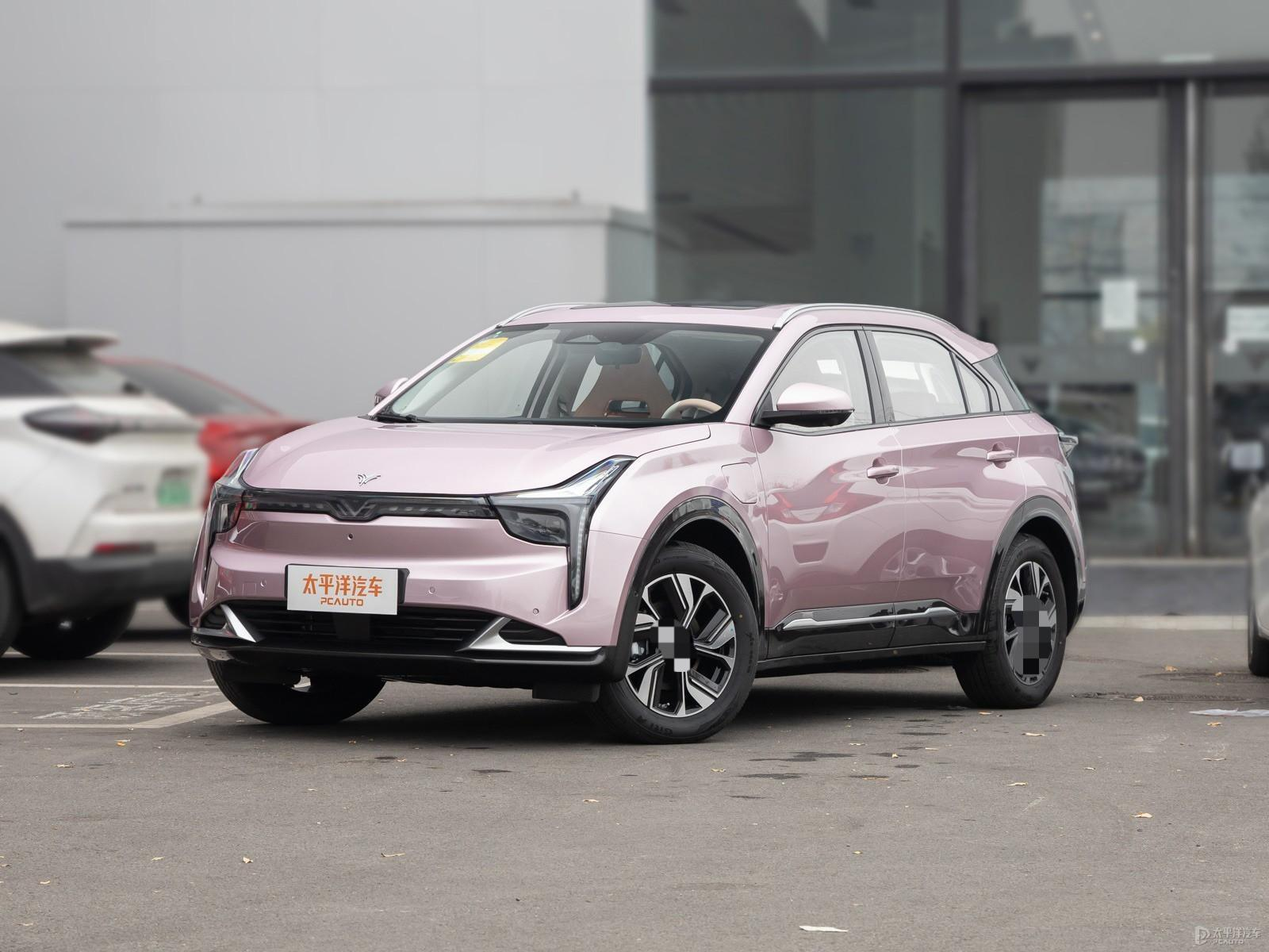NETA: (356, 472, 383, 487)
